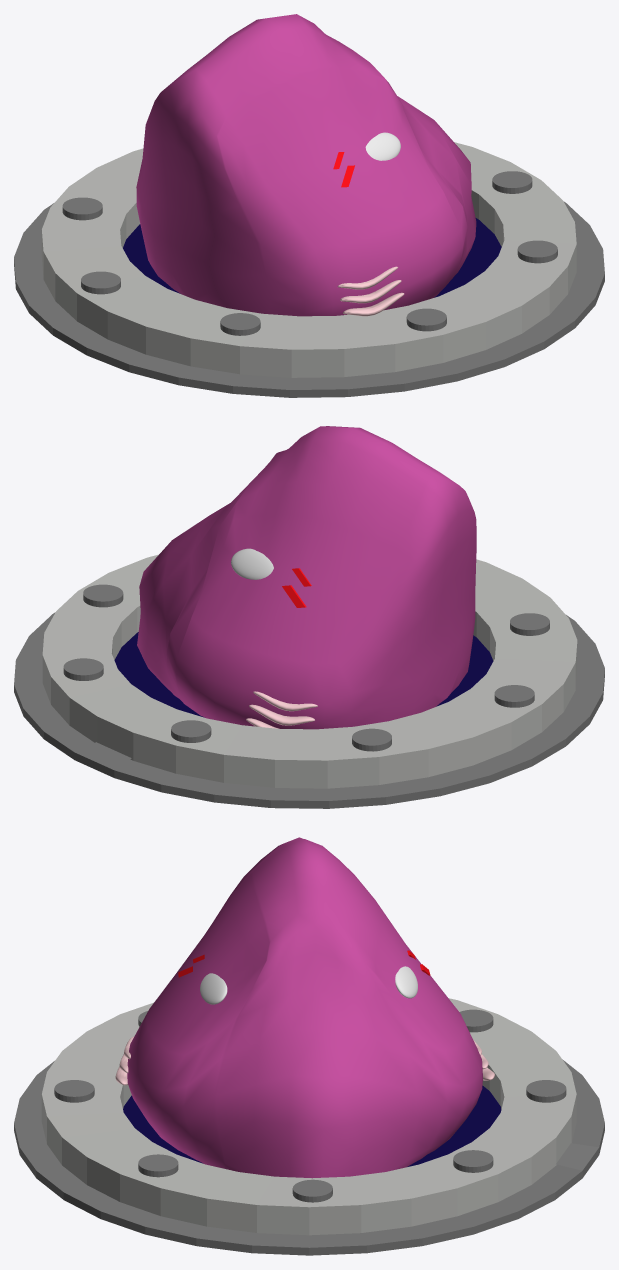
The model's file is QueenAal.fbx.
3 renders of one model, top to bottom at view 1: azimuth 30°, elevation 25°; view 2: azimuth 150°, elevation 25°; view 3: azimuth 270°, elevation 25°, orthographic.
Visible parts, largest first — view 1: Cylinder.002, Cylinder.001, Cylinder, Cylinder.007, Cylinder.008, Cylinder.010, Cylinder.006, Cylinder.009, Cylinder.005; view 2: Cylinder.002, Cylinder.001, Cylinder, Cylinder.006, Cylinder.004, Cylinder.003, Cylinder.005, Cylinder.008, Cylinder.009; view 3: Cylinder.002, Cylinder.001, Cylinder, Cylinder.010, Cylinder.007, Cylinder.006, Cylinder.004, Cylinder.003, Cylinder.008.
Part boxes in pixels (x1,y1,x2,y2): Cylinder.002: (136, 14, 476, 316); Cylinder.001: (41, 142, 576, 377); Cylinder: (14, 201, 604, 397); Cylinder.007: (406, 308, 446, 331); Cylinder.008: (62, 197, 102, 220); Cylinder.010: (517, 240, 557, 263); Cylinder.006: (492, 171, 532, 193); Cylinder.009: (220, 313, 260, 335); Cylinder.005: (81, 271, 120, 294); Cylinder.002: (137, 426, 476, 729); Cylinder.001: (42, 554, 577, 788); Cylinder: (14, 612, 604, 808); Cylinder.006: (83, 584, 123, 607); Cylinder.004: (63, 658, 103, 680); Cylinder.003: (171, 720, 211, 742); Cylinder.005: (494, 685, 534, 707); Cylinder.008: (352, 728, 391, 751); Cylinder.009: (510, 613, 549, 635); Cylinder.002: (115, 837, 494, 1178); Cylinder.001: (41, 998, 576, 1235); Cylinder: (14, 1059, 604, 1255); Cylinder.010: (138, 1154, 178, 1177); Cylinder.007: (54, 1080, 94, 1102); Cylinder.006: (292, 1179, 332, 1202); Cylinder.004: (453, 1150, 493, 1172); Cylinder.003: (526, 1080, 566, 1102); Cylinder.008: (459, 1009, 493, 1032).
Size of the model in its own units: 2537 by 1536 by 2537.
